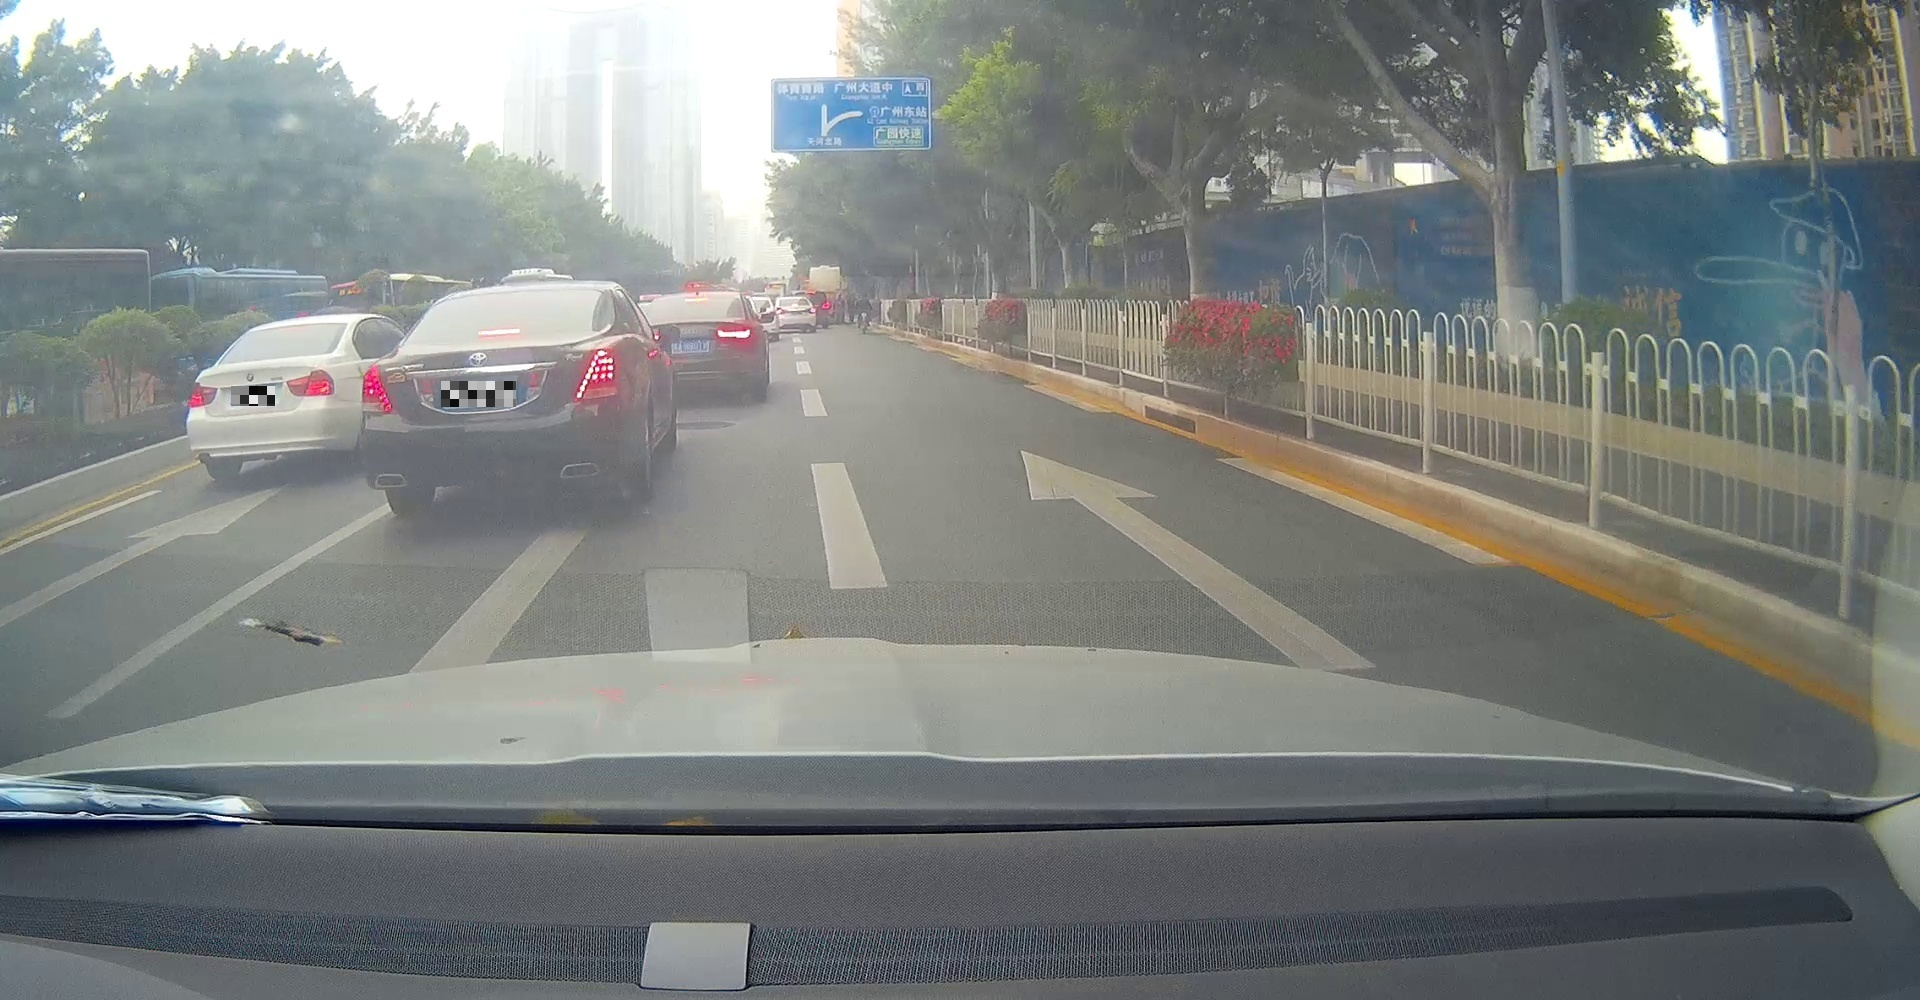L_light: (362, 362, 392, 411), (190, 379, 218, 410)
R_light: (577, 352, 620, 402), (284, 369, 337, 397)
T_light: (476, 330, 521, 338), (276, 327, 302, 332)
day-brake: (359, 282, 631, 519), (185, 316, 350, 478)
plate_1: (231, 386, 276, 406)
plate_2: (441, 381, 516, 407)
